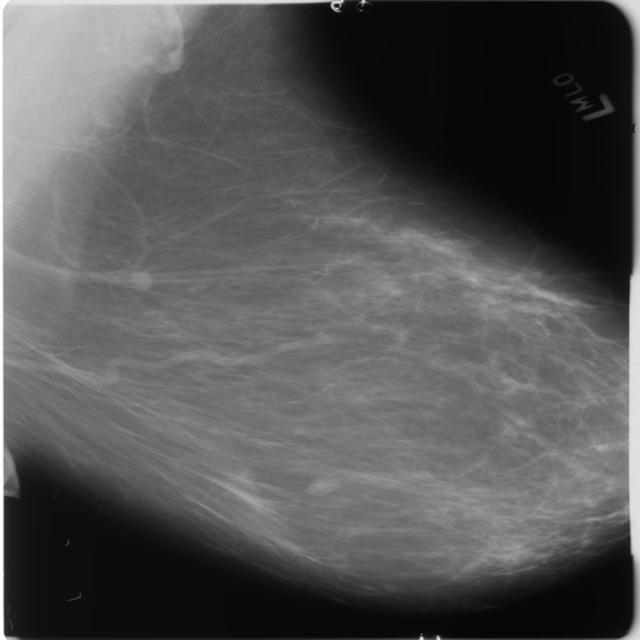tumour: (126, 268, 151, 290)
